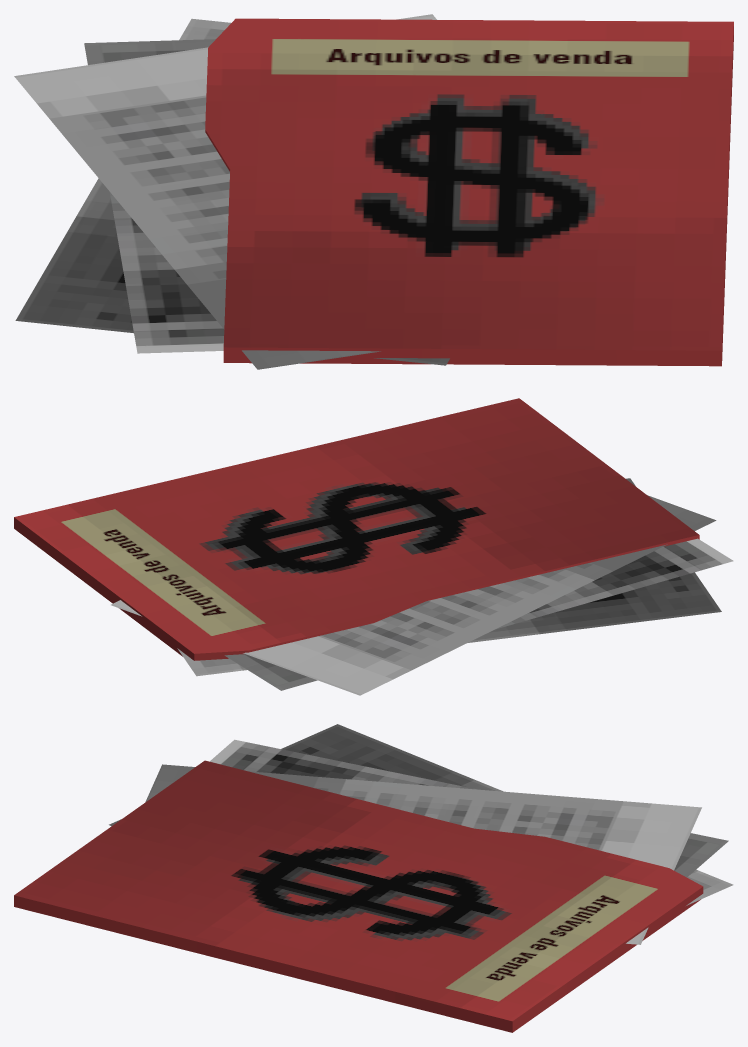
The model's file is Pad venda.glb.
The picture shows the model from 3 angles, top to bottom: view 1: azimuth 30°, elevation 25°; view 2: azimuth 150°, elevation 25°; view 3: azimuth 270°, elevation 25°; orthographic projection. The views are drawn at different scales.
Visible parts, largest first — view 1: Venda; view 2: Venda; view 3: Venda.
Part boxes in pixels (x1,y1,x2,y2): Venda: (14,14,733,369); Venda: (14,398,733,695); Venda: (14,724,733,1032).
Size of the model in its own units: 2.03 by 0.036 by 2.03.
Materials: 1 (1 with a texture image).
